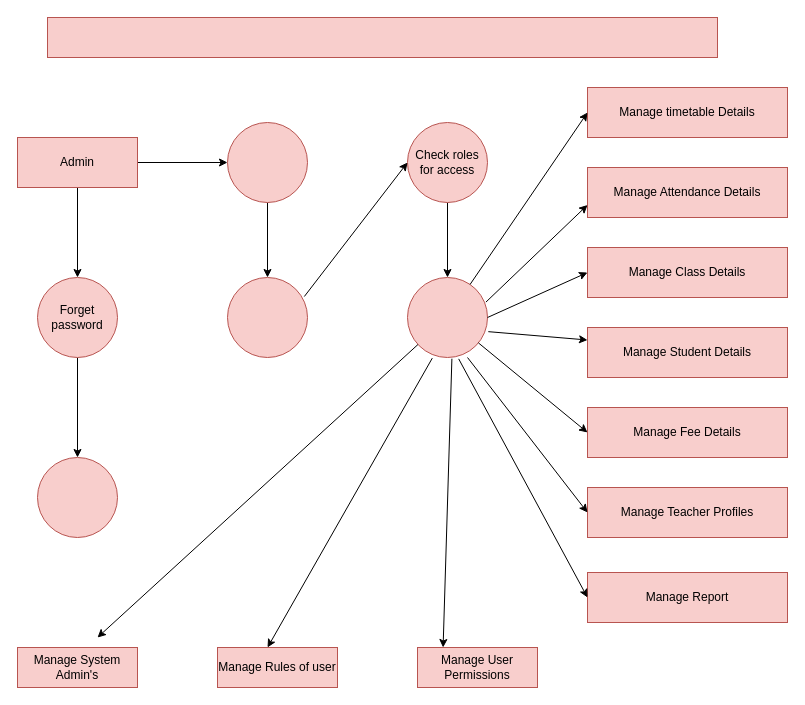
The diagram is 805 pixels wide and 705 high, and some of its shapes have lost their labels. The centre of each missing label's shape, as x and y in pixels:
"Check Credentials" belongs at point (267, 317).
"Login to system" belongs at point (267, 162).
"Manage Modules" belongs at point (447, 317).
"Send Email to user" belongs at point (77, 497).
"STUDENT INFORMATION SYSTEM" belongs at point (382, 37).
